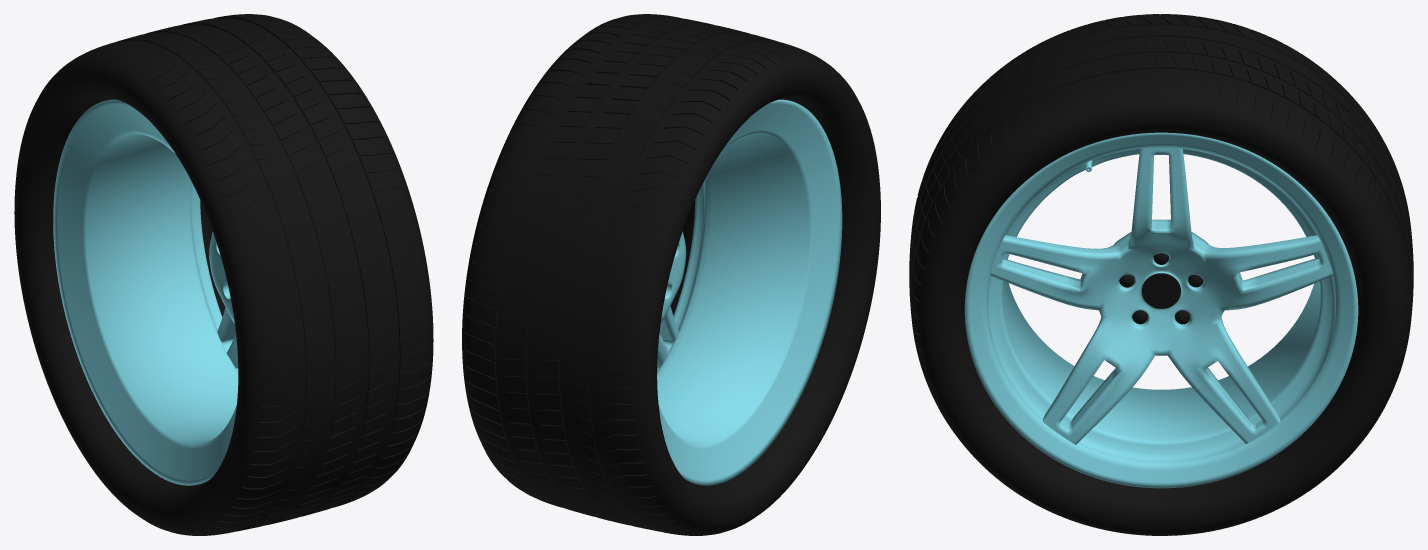
Rendered from koleso8.glb.
3 views of the same model, side by side, from view 1: azimuth 30°, elevation 25°; view 2: azimuth 150°, elevation 25°; view 3: azimuth 270°, elevation 25° (orthographic).
Visible parts, largest first — view 1: wheel_rim_bolt_e; view 2: wheel_rim_bolt_e; view 3: wheel_rim_bolt_e.
Part boxes in pixels (x1,y1,x2,y2): wheel_rim_bolt_e: [14, 14, 433, 535]; wheel_rim_bolt_e: [462, 14, 880, 535]; wheel_rim_bolt_e: [909, 14, 1413, 535].
Size of the model in its own units: 0.2994 by 0.6993 by 0.6994.
